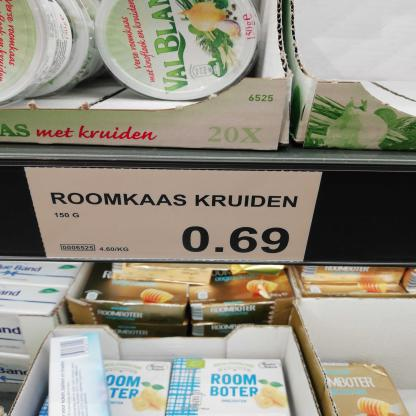prtg: (25, 168, 324, 264)
